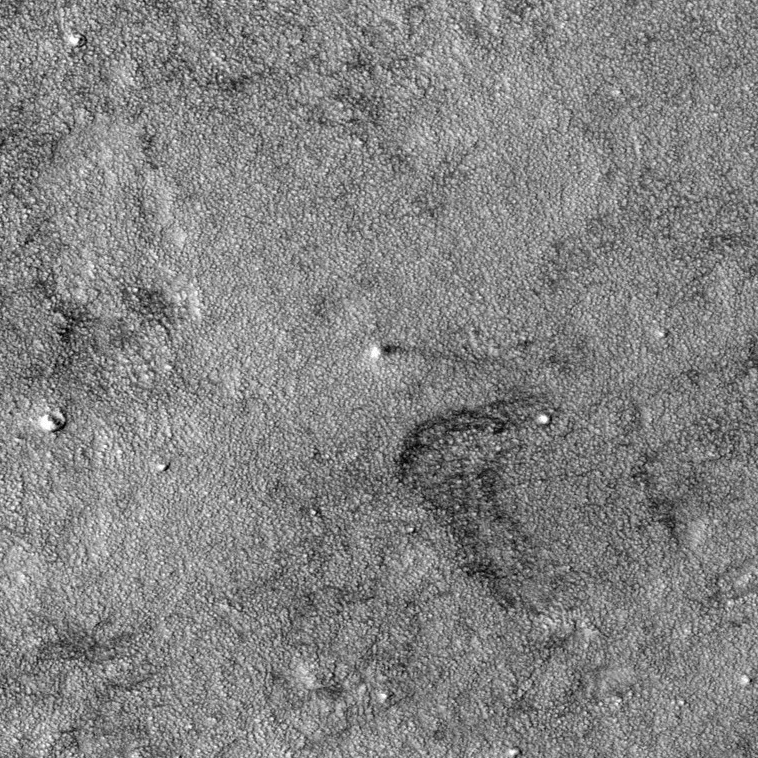dust_devil: (367, 342, 408, 362)
